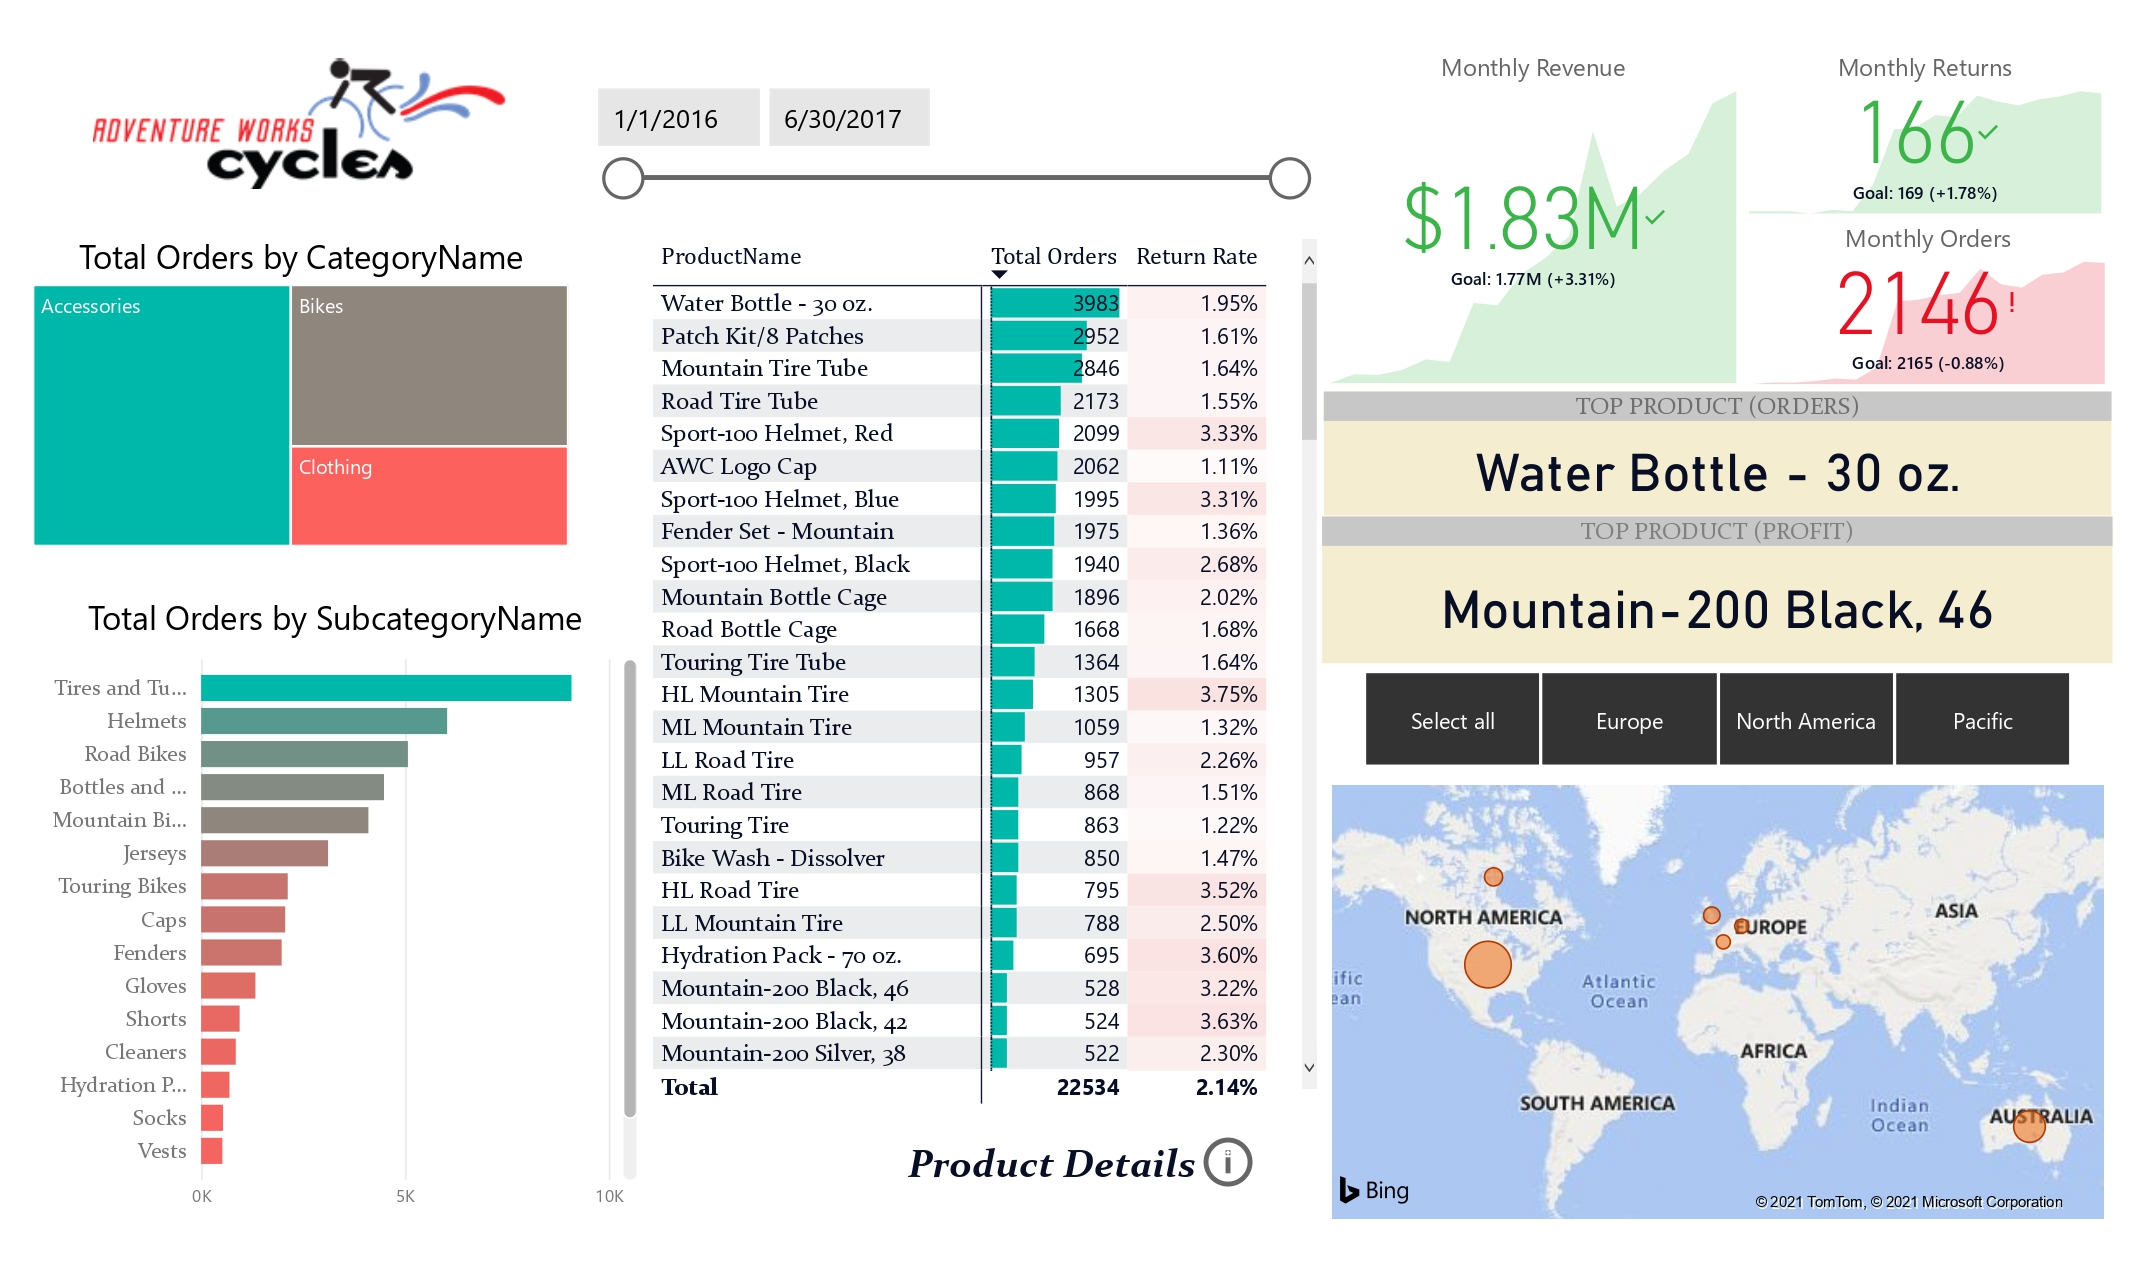

What the dashboard file says about the page in this screenshot:
{"tool":"powerbi","page":{"name":"Exec Summary","canvas":[1280,720],"ordinal":0},"visuals":[{"type":"image","box":[0,0,338.7,89.6],"z":0},{"type":"barChart","fields":{"Y":["AW_Sales.Total Orders"],"Category":["AW_Product_Subcategory_Lookup.SubcategoryName"]},"box":[0,333.3,380,386.7],"z":1000},{"type":"treemap","fields":{"Group":["AW_Product_Category_Lookup.CategoryName","AW_Product_Subcategory_Lookup.SubcategoryName"],"Values":["AW_Sales.Total Orders"]},"box":[0,111.7,338.3,196.7],"z":2000},{"type":"pivotTable","fields":{"Values":["AW_Sales.Total Orders","AW_Returns.Return Rate"],"Rows":["AW_Product_Category_Lookup.CategoryName","AW_Product_Subcategory_Lookup.SubcategoryName","AW_Product_Lookup.ProductName"]},"box":[380.2,111.2,416.7,539.6],"z":3000},{"type":"slicer","fields":{"Values":["AW_Calendar_Lookup.Date"]},"box":[338.3,13.3,458.3,150],"z":4000},{"type":"kpi","title":"Monthly Revenue","fields":{"Goal":["AW_Sales.Prev Month Revenue"],"TrendLine":["AW_Calendar_Lookup.Start of Month"],"Indicator":["AW_Sales.Total Revenue"]},"box":[795.2,0,259,209.2],"z":5000},{"type":"kpi","title":"Monthly Orders","fields":{"Goal":["AW_Sales.Prev Month Orders"],"TrendLine":["AW_Calendar_Lookup.Start of Month"],"Indicator":["AW_Sales.Total Orders"]},"box":[1054.2,104.6,225.8,104.6],"z":6000},{"type":"kpi","title":"Monthly Returns","fields":{"TrendLine":["AW_Calendar_Lookup.Start of Month"],"Indicator":["AW_Returns.Total Returns"],"Goal":["AW_Sales.Prev Month Returns"]},"box":[1052.6,0,225.8,104.6],"z":7000},{"type":"card","title":"TOP PRODUCT (ORDERS)","fields":{"Values":["Min(AW_Product_Lookup.ProductName)"]},"box":[796.9,209.2,483.1,76.4],"z":8000},{"type":"card","title":"TOP PRODUCT (PROFIT)","fields":{"Values":["Min(AW_Product_Lookup.ProductName)"]},"box":[795.2,285.6,484.8,89.6],"z":9000},{"type":"map","fields":{"Category":["AW_Territories.Country"],"Size":["AW_Sales.Total Orders"]},"box":[796.9,444.9,483.1,275.6],"z":10000},{"type":"slicer","fields":{"Values":["AW_Territories.Continent"]},"box":[796.9,375.2,481.5,70],"z":11000},{"type":"textbox","box":[536.2,662.4,209.2,46.5],"z":12000},{"type":"actionButton","box":[717.2,659.1,39.8,46.5],"z":13000}]}

Visuals, with their boxes on the page's 1280x720 design canvas (x1, y1, x2, y2). These are canvas units, not pixel positions in the 2150x1275 screenshot, which may show the page scaled, cropped or inside an application window:
image: (0, 0, 339, 90)
barChart - AW_Sales.Total Orders x AW_Product_Subcategory_Lookup.SubcategoryName: (0, 333, 380, 720)
treemap - AW_Product_Category_Lookup.CategoryName x AW_Product_Subcategory_Lookup.SubcategoryName: (0, 112, 338, 308)
pivotTable - AW_Sales.Total Orders x AW_Returns.Return Rate: (380, 111, 797, 651)
slicer - AW_Calendar_Lookup.Date: (338, 13, 797, 163)
"Monthly Revenue" kpi: (795, 0, 1054, 209)
"Monthly Orders" kpi: (1054, 105, 1280, 209)
"Monthly Returns" kpi: (1053, 0, 1278, 105)
"TOP PRODUCT (ORDERS)" card: (797, 209, 1280, 286)
"TOP PRODUCT (PROFIT)" card: (795, 286, 1280, 375)
map - AW_Territories.Country x AW_Sales.Total Orders: (797, 445, 1280, 720)
slicer - AW_Territories.Continent: (797, 375, 1278, 445)
textbox: (536, 662, 745, 709)
actionButton: (717, 659, 757, 706)
